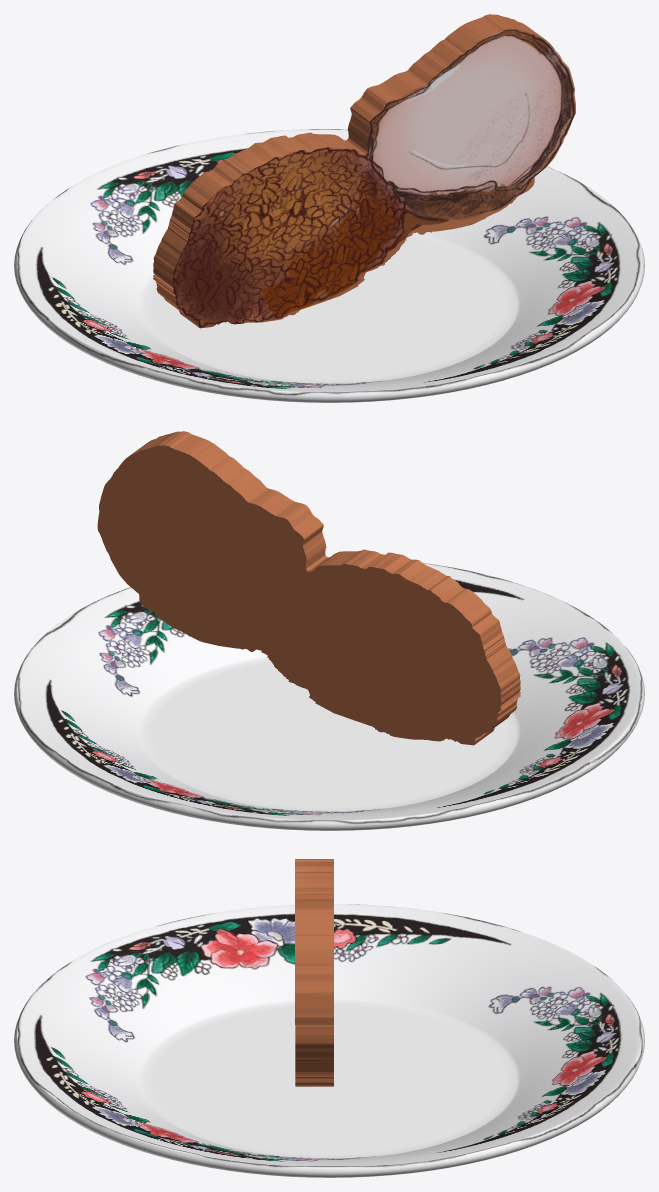
The model's file is arroz de coco.glb.
The picture shows the model from 3 angles, top to bottom: view 1: azimuth 30°, elevation 25°; view 2: azimuth 150°, elevation 25°; view 3: azimuth 270°, elevation 25°; orthographic projection.
Visible parts, largest first — view 1: Plato.001, arroz de coco; view 2: Plato.001, arroz de coco; view 3: Plato.001, arroz de coco.
Part boxes in pixels (x1,y1,x2,y2): Plato.001: [14, 129, 644, 402]; arroz de coco: [153, 14, 575, 328]; Plato.001: [14, 557, 644, 830]; arroz de coco: [97, 431, 520, 745]; Plato.001: [14, 904, 644, 1177]; arroz de coco: [295, 859, 334, 1086].
Bounding box in the file's own units: 18.56 × 8.44 × 18.56.
Materials: 2 (2 with a texture image).
